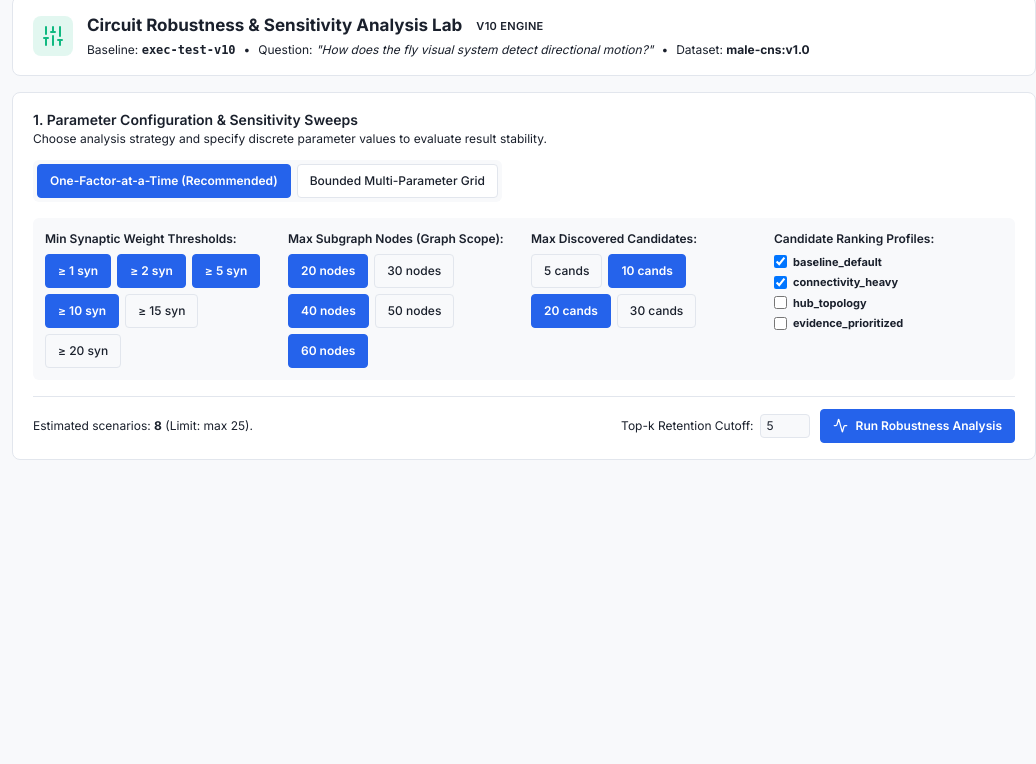
Test: RobustnessLab (V10) Component › displays reproducibility manifest with schema 1.0.0
What coordinates should you click on to do the following:
click the button "Run Robustness Analysis"
I would click on:
 (917, 426)
Its box is 820,408 -> 1015,442.
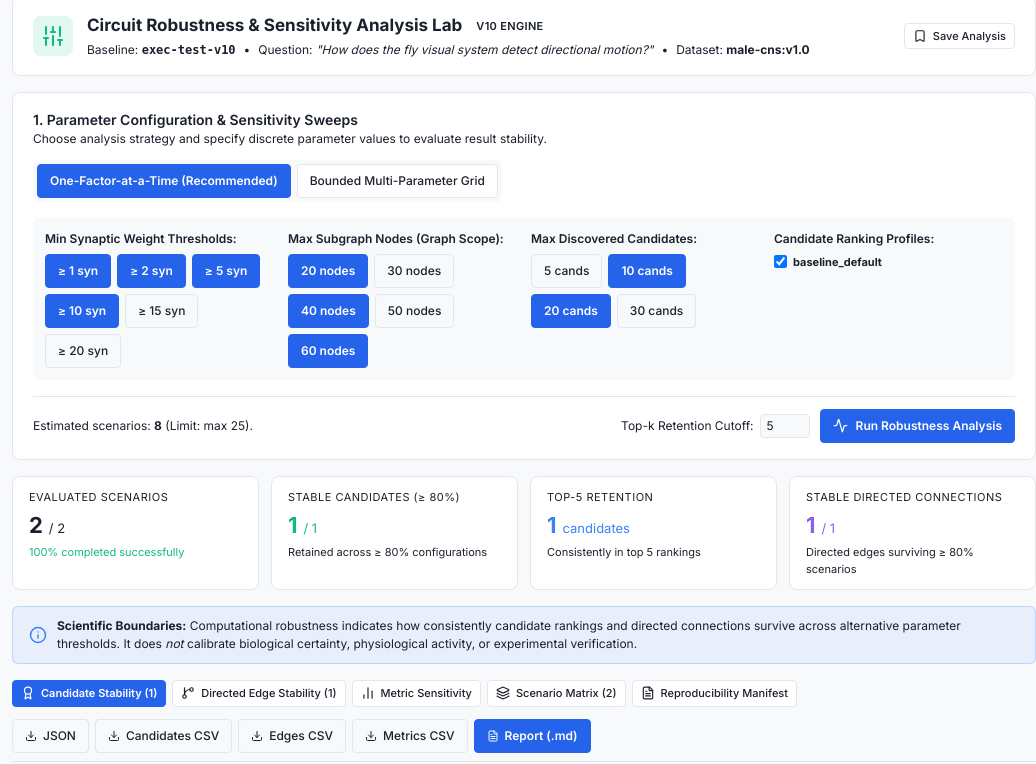
Check: the text "Reproducibility Manifest" is shown, box 660,685 -> 788,702
What coordinates should you click on to do the following:
click the button "Reproducibility Manifest"
I would click on:
 (714, 693)
Its box is 632,680 -> 797,706.
(page scrolled)
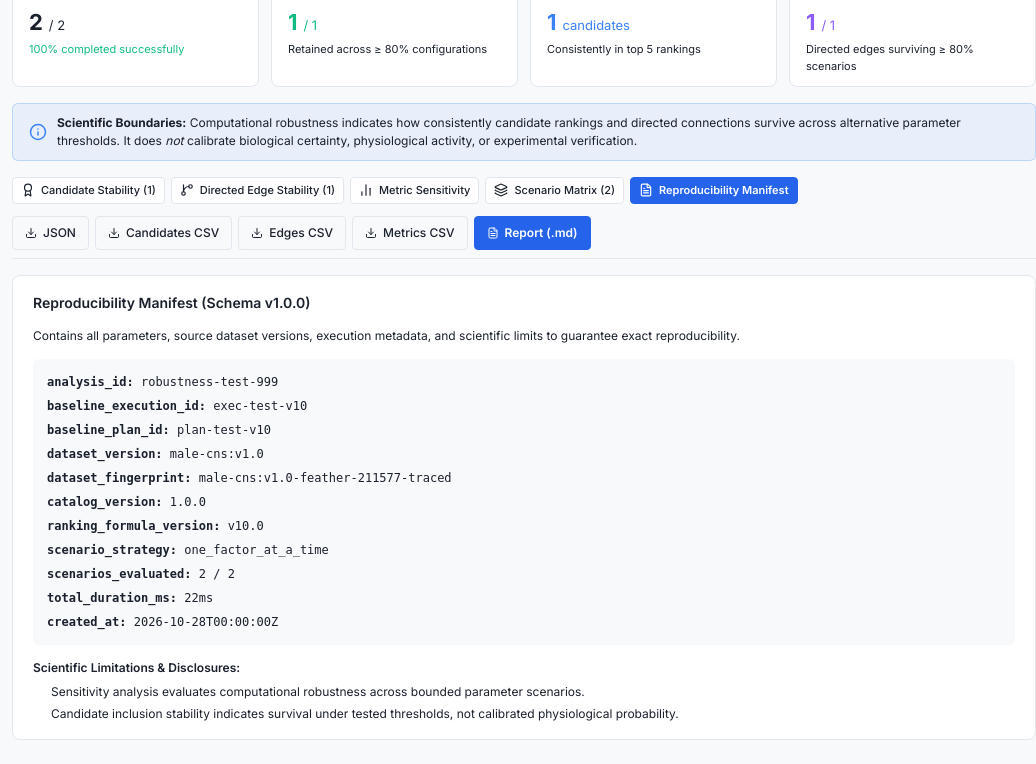
Check: the text "Reproducibility Manifest (Schema v1.0.0)" is shown, box 33,294 -> 310,310
Check: the text "analysis_id: robustness-test-999" is shown, box 47,374 -> 278,388
